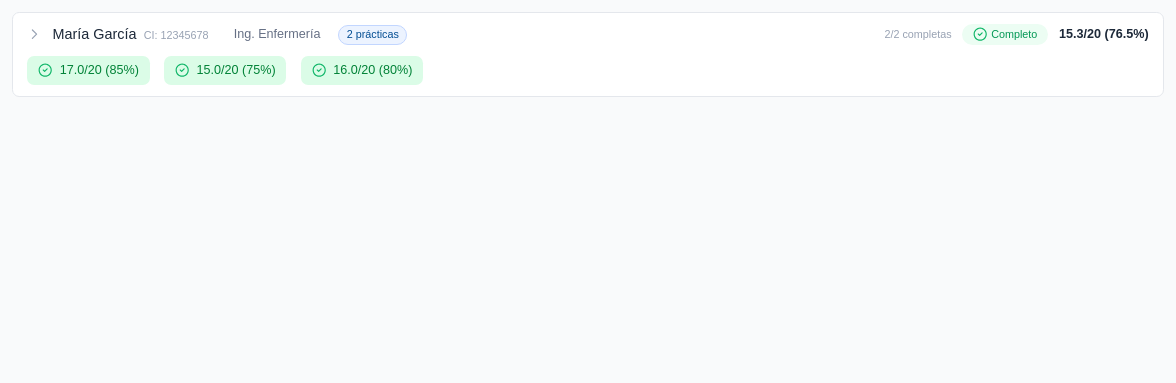
it: EvaluationCard — Expanded View › muestra detalles de todas las prácticas al expandir
Click the button with aria-label "expandir" at (95,34), box left=13, top=13, right=1163, bottom=56
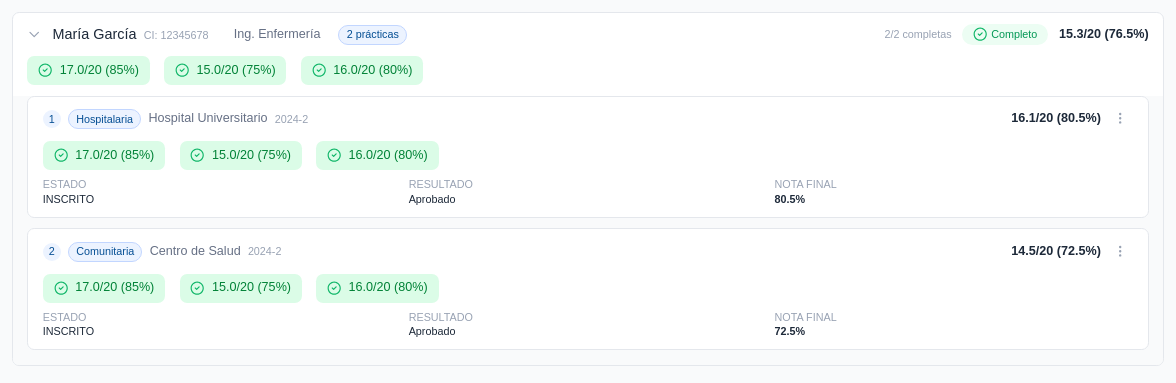
Now the text "Hospitalaria" is shown, box left=68, top=109, right=141, bottom=129
Now the text "Comunitaria" is shown, box left=68, top=242, right=142, bottom=262
Now the text "Hospital Universitario" is shown, box left=148, top=110, right=268, bottom=128
